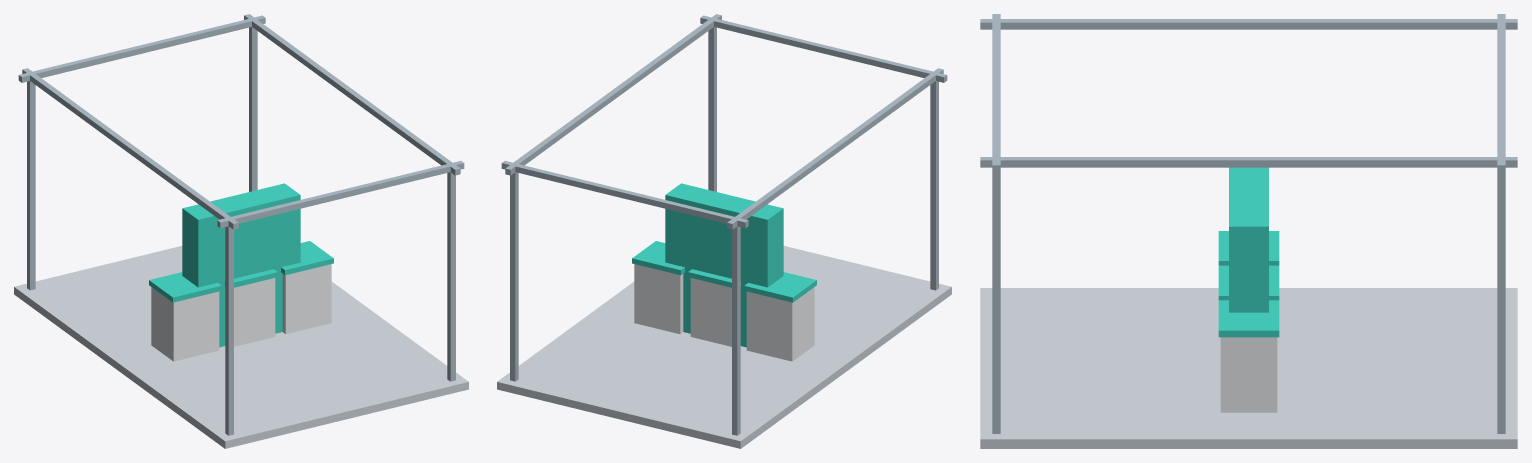
3 views of the same model, side by side, from view 1: azimuth 30°, elevation 25°; view 2: azimuth 150°, elevation 25°; view 3: azimuth 270°, elevation 25° (orthographic). The views are drawn at different scales.
Visible parts, largest first — view 1: Exhibition Booth Concept; view 2: Exhibition Booth Concept; view 3: Exhibition Booth Concept.
Boxes of the visible parts, bbox=[...] form: Exhibition Booth Concept: bbox=[14, 14, 468, 448]; Exhibition Booth Concept: bbox=[497, 14, 951, 448]; Exhibition Booth Concept: bbox=[980, 14, 1517, 448].
Bounding box in the file's own units: 4 × 3.49 × 6.
